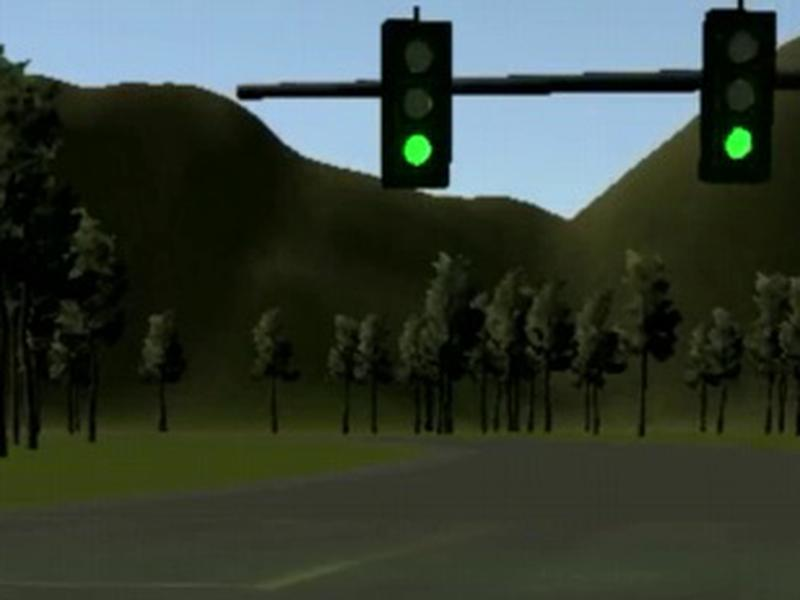Green: (698, 9, 777, 183), (382, 19, 453, 190)
